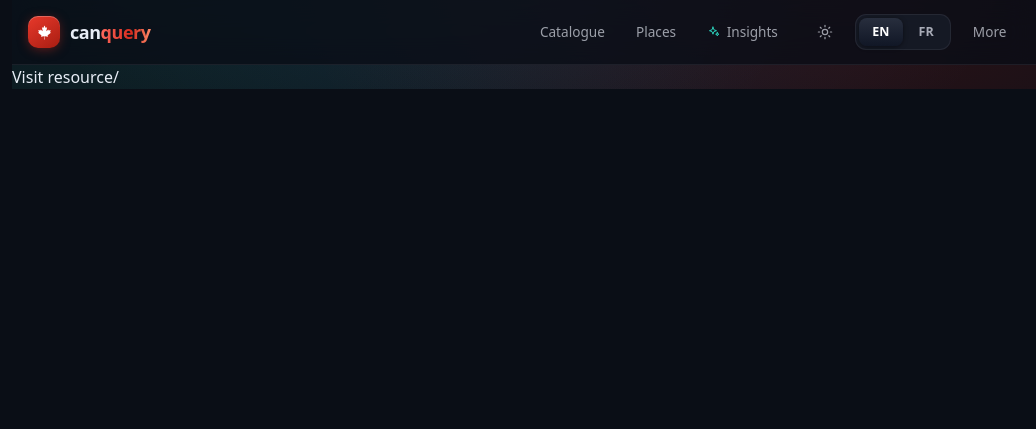
the FAQ link navigates, closes the panel and marks its current route
Click the button with aria-label "Open navigation menu" at (990, 32), box [959,10,1020,54]
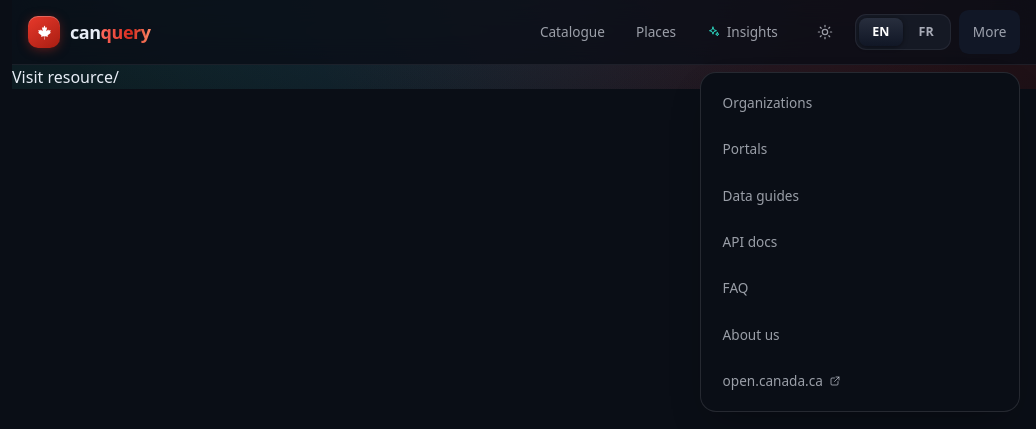
Click the link "FAQ" at (736, 288), box [723,278,748,297]
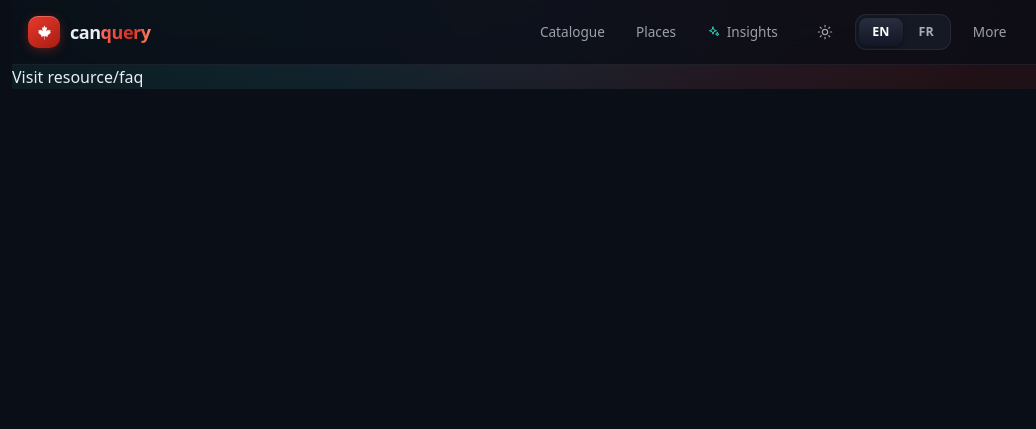
Result: the text with test id "location" reads "/faq" at [113,66,143,88]
Result: the navigation bar "Navigation" is gone
Click the button with aria-label "Open navigation menu" at (990, 32), box [959,10,1020,54]
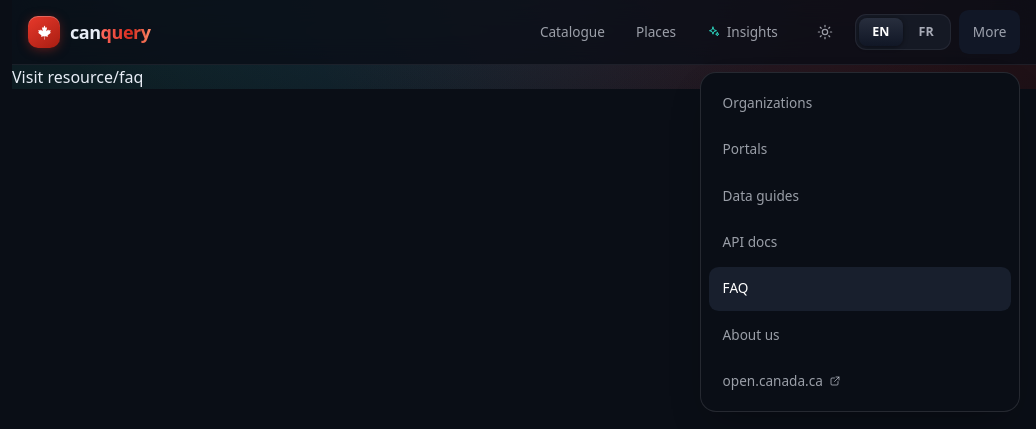
Result: the link "FAQ" is marked as current
Click the link "FAQ" at (736, 288), box [709,267,1011,311]
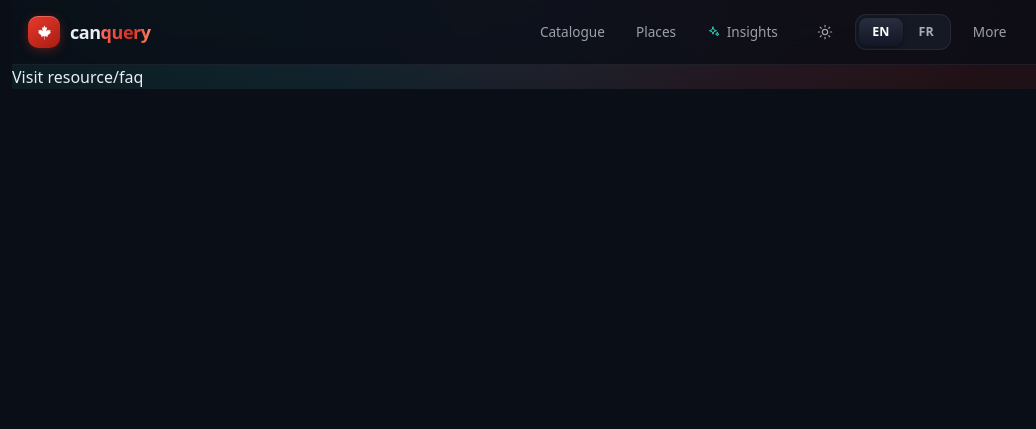
Result: the navigation bar "Navigation" is gone
